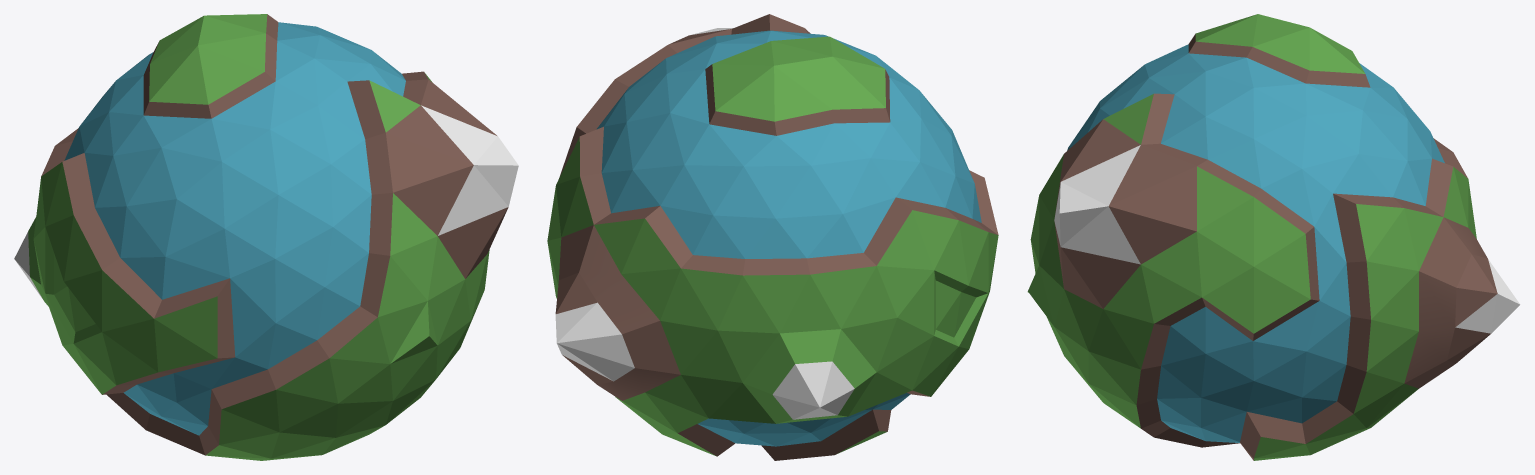
The model's file is Planet_01.fbx.
3 renders of one model, left to right at view 1: azimuth 30°, elevation 25°; view 2: azimuth 150°, elevation 25°; view 3: azimuth 270°, elevation 25°, orthographic. The views are drawn at different scales.
Visible parts, largest first — view 1: GeoSphere004; view 2: GeoSphere004; view 3: GeoSphere004.
Part boxes in pixels (box(x1,y1,x2,y2)): GeoSphere004: box(14, 14, 518, 460); GeoSphere004: box(547, 14, 998, 460); GeoSphere004: box(1027, 14, 1520, 460).
Bounding box in the file's own units: 559 × 617 × 553.
